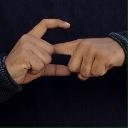hand: (4, 17, 71, 85), (52, 36, 125, 80)
